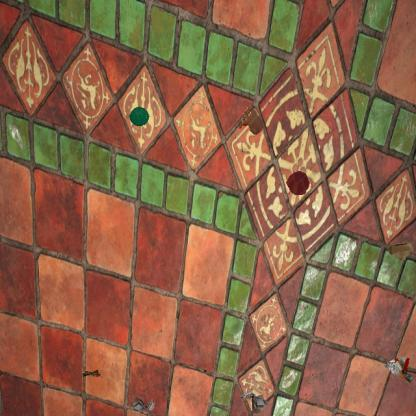dirty: (382, 355, 416, 385), (240, 388, 271, 415), (387, 240, 415, 262), (127, 105, 152, 128), (130, 396, 156, 415), (79, 367, 103, 380)
liquid: (238, 105, 264, 136), (284, 169, 310, 196)
